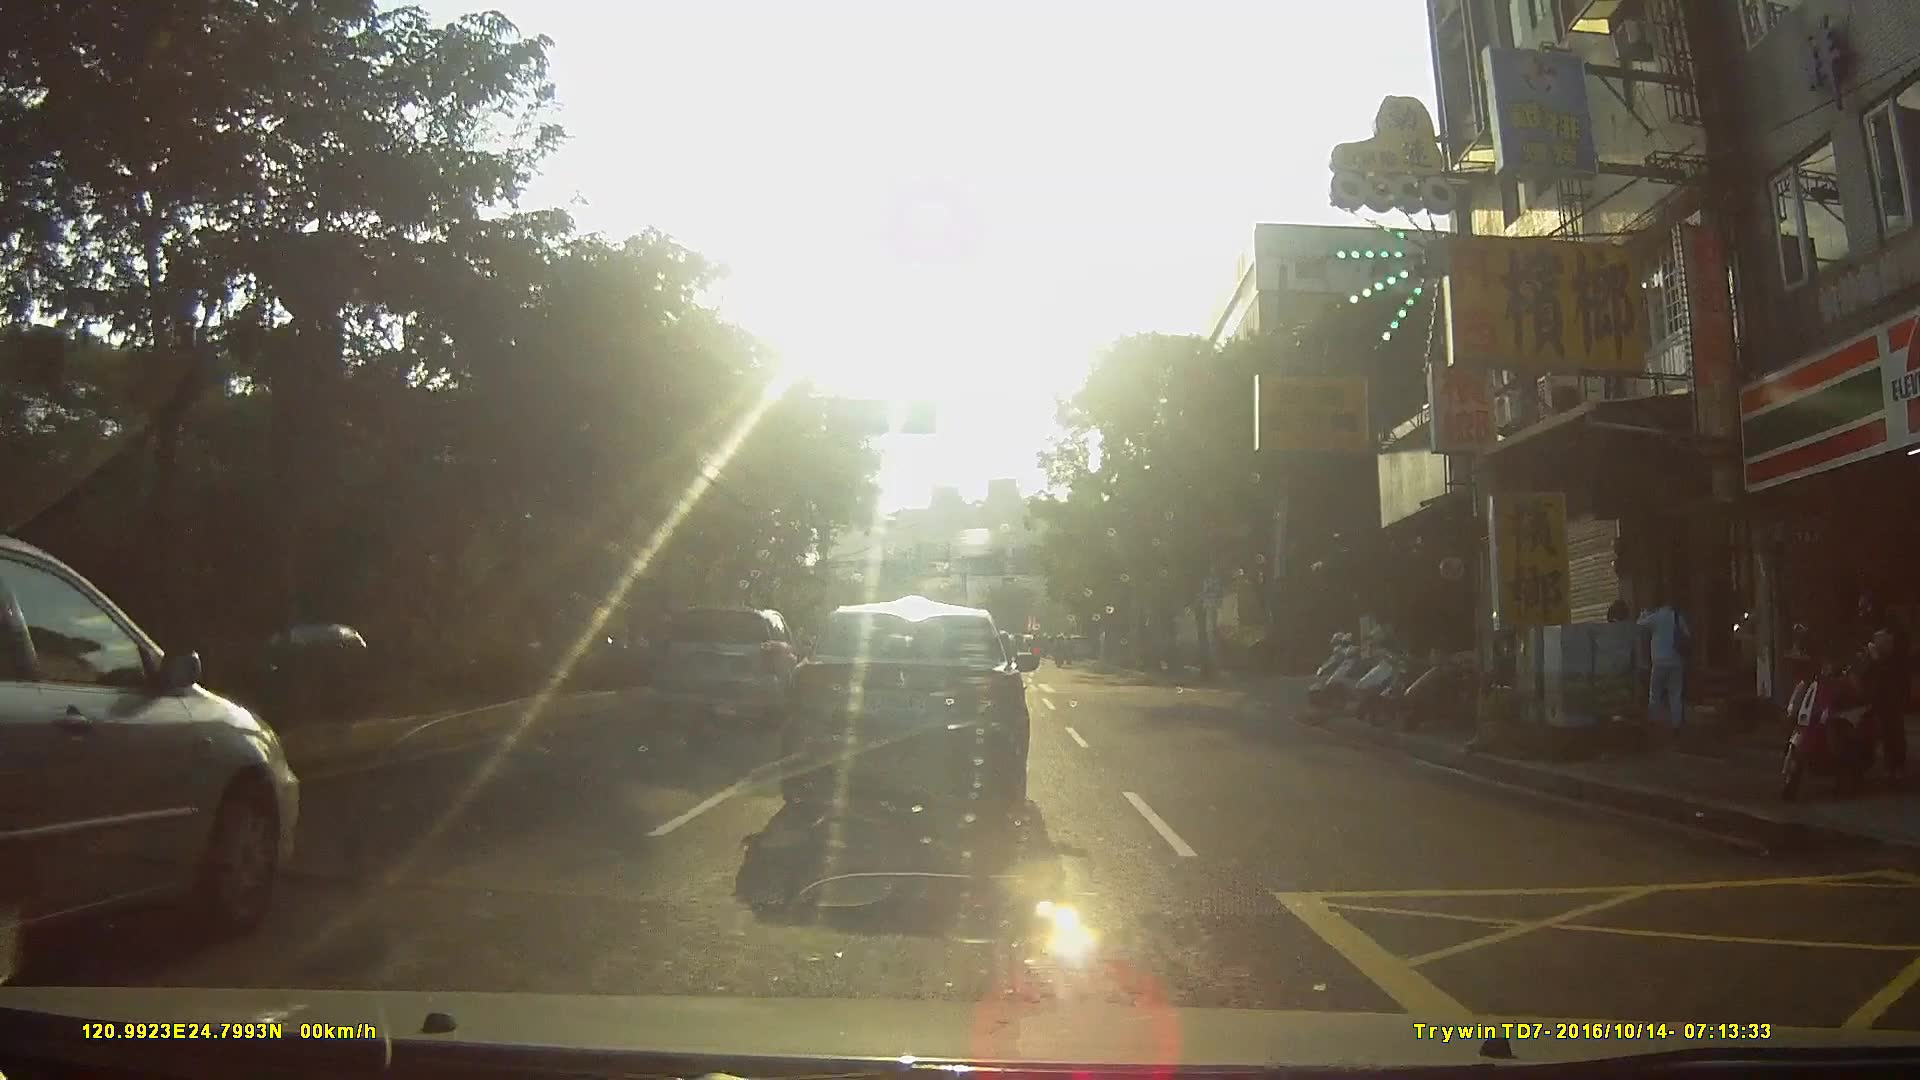pedestrian: (1639, 587, 1701, 741), (1876, 610, 1913, 790)
vehicle: (1, 537, 303, 979), (789, 593, 1058, 828), (652, 603, 809, 726)
